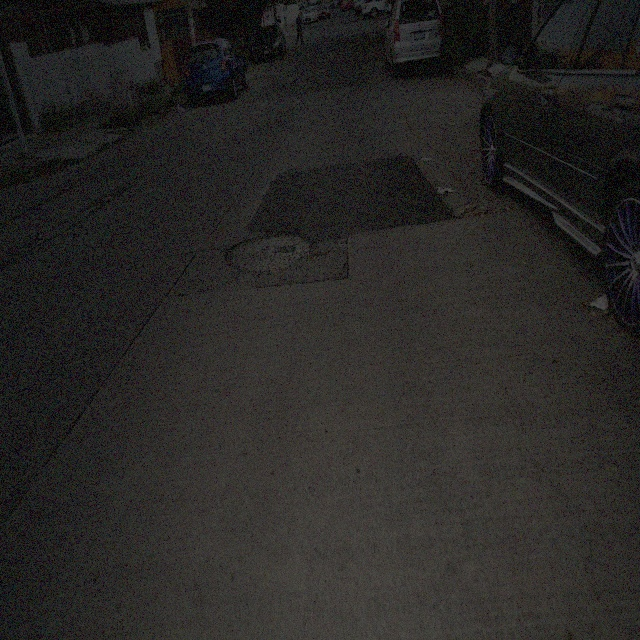pothole: (450, 205, 492, 226)
